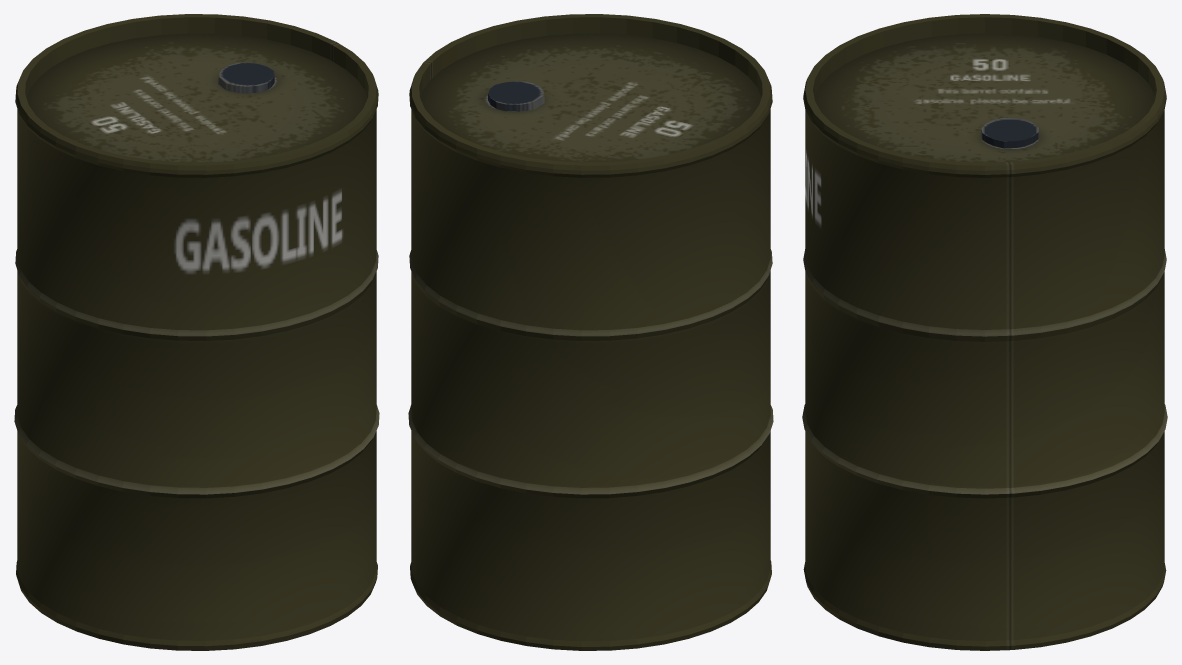
Rendered from Barrel7.fbx.
The picture shows the model from 3 angles, left to right: view 1: azimuth 30°, elevation 25°; view 2: azimuth 150°, elevation 25°; view 3: azimuth 270°, elevation 25°; orthographic projection.
Visible parts, largest first — view 1: body, top; view 2: body, top; view 3: body, top.
Boxes of the visible parts, bbox=[...] form: body: bbox=[14, 14, 379, 650]; top: bbox=[26, 33, 367, 162]; body: bbox=[408, 14, 773, 650]; top: bbox=[420, 33, 761, 162]; body: bbox=[802, 14, 1167, 650]; top: bbox=[814, 33, 1155, 162].
Size of the model in its own units: 68.23 by 99.92 by 68.23.
